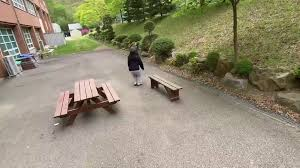obstacle: (52, 75, 117, 125), (148, 73, 181, 104)
